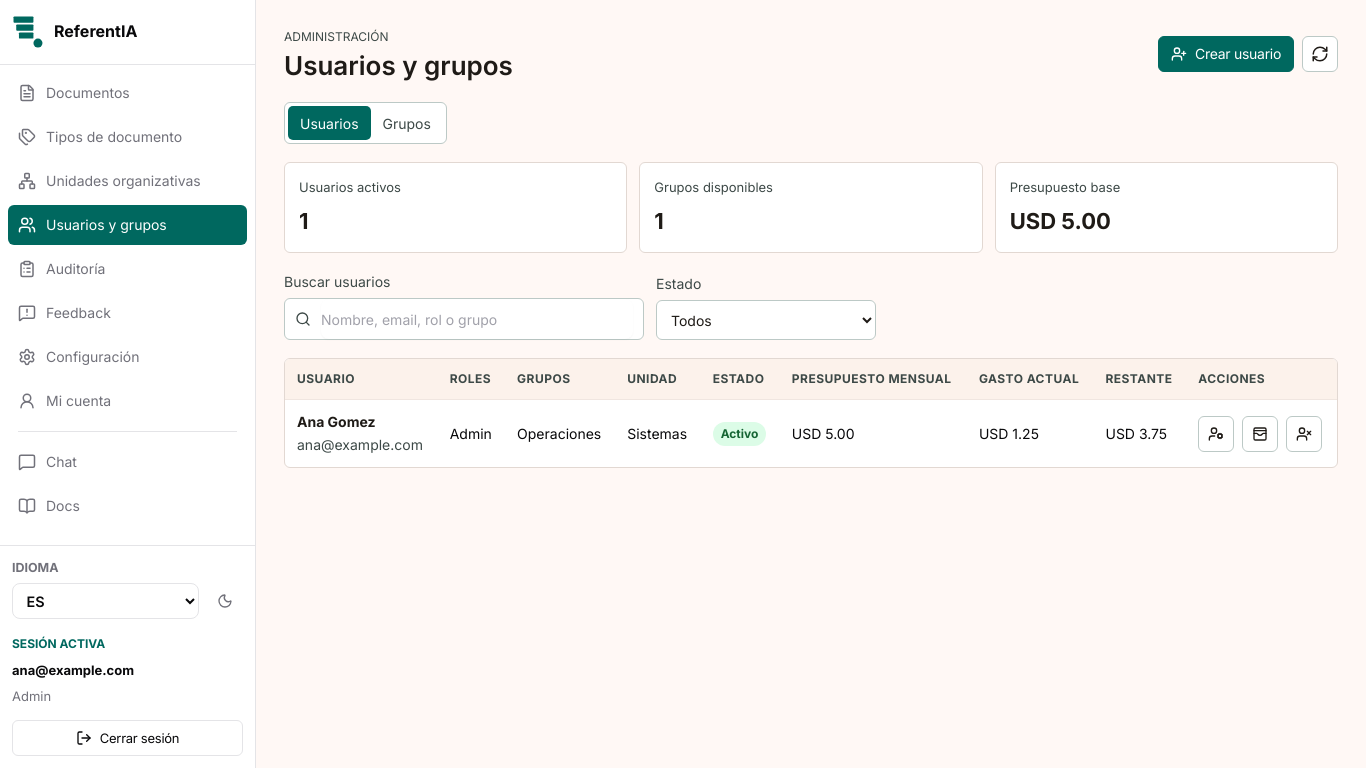
Test case: management documents › documents access column shows company-wide rules
What coordinates should you click on to do the following:
click the link "Documentos"
I would click on:
 (74, 93)
Its box is [18,84,130,102].
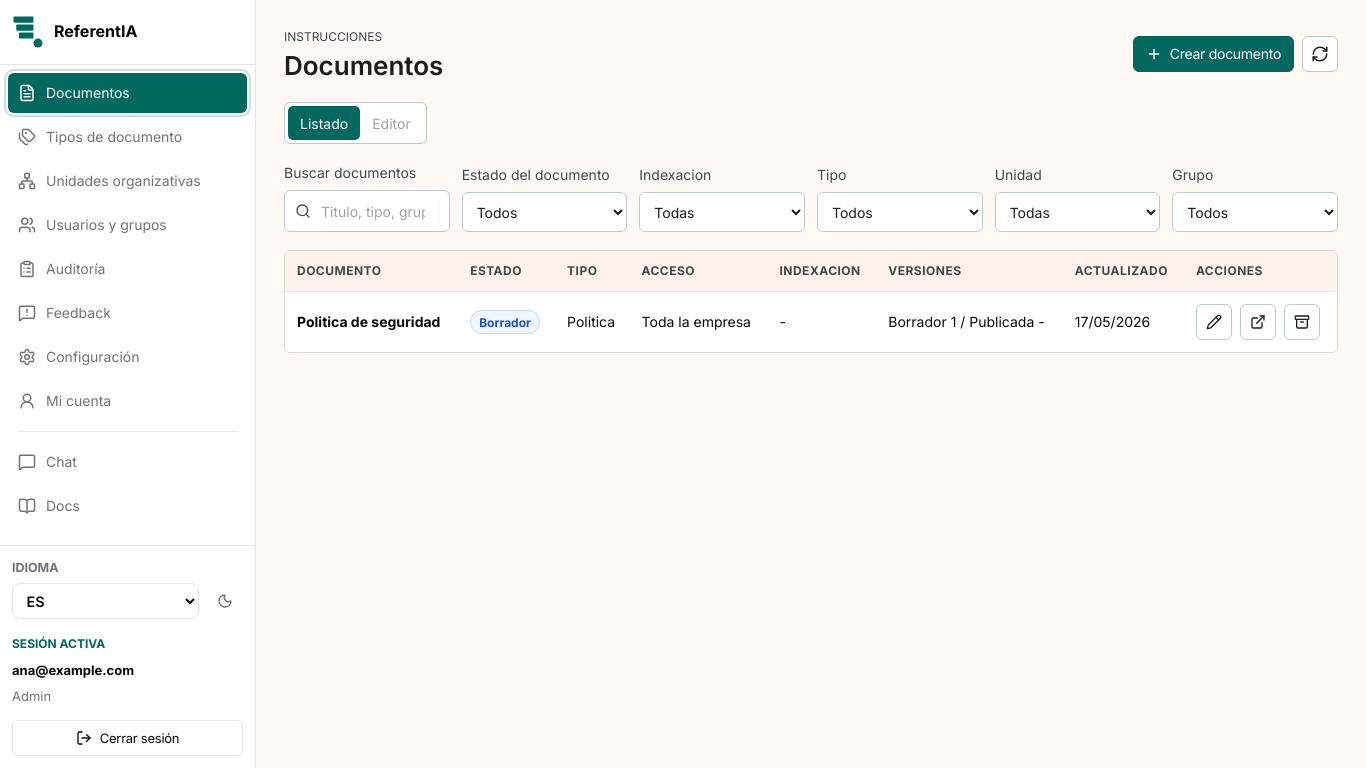
Expected: the text "Toda la empresa" is shown, [630,292,768,352]
